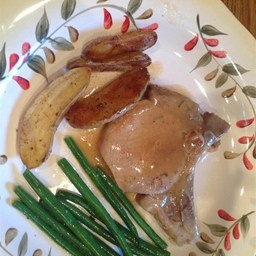background: (4, 11, 92, 102)
